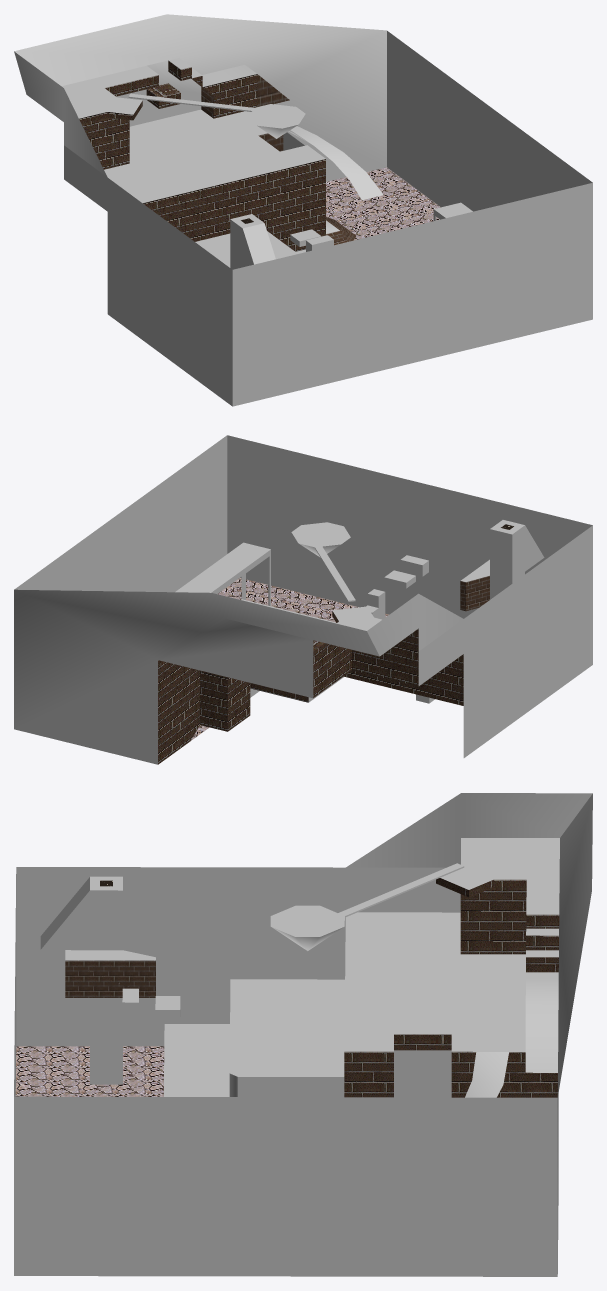
The model's file is Sala_Agua.fbx.
3 renders of one model, top to bottom at view 1: azimuth 30°, elevation 25°; view 2: azimuth 150°, elevation 25°; view 3: azimuth 270°, elevation 25°, orthographic. The views are drawn at different scales.
Parts seen in each view (by area): view 1: wetdryworld; view 2: wetdryworld; view 3: wetdryworld.
Boxes of the visible parts, x1,y1,x2,y2 form: wetdryworld: (14, 14, 592, 406); wetdryworld: (14, 435, 592, 764); wetdryworld: (14, 793, 592, 1276).
Size of the model in its own units: 13570 by 6963 by 14390.
